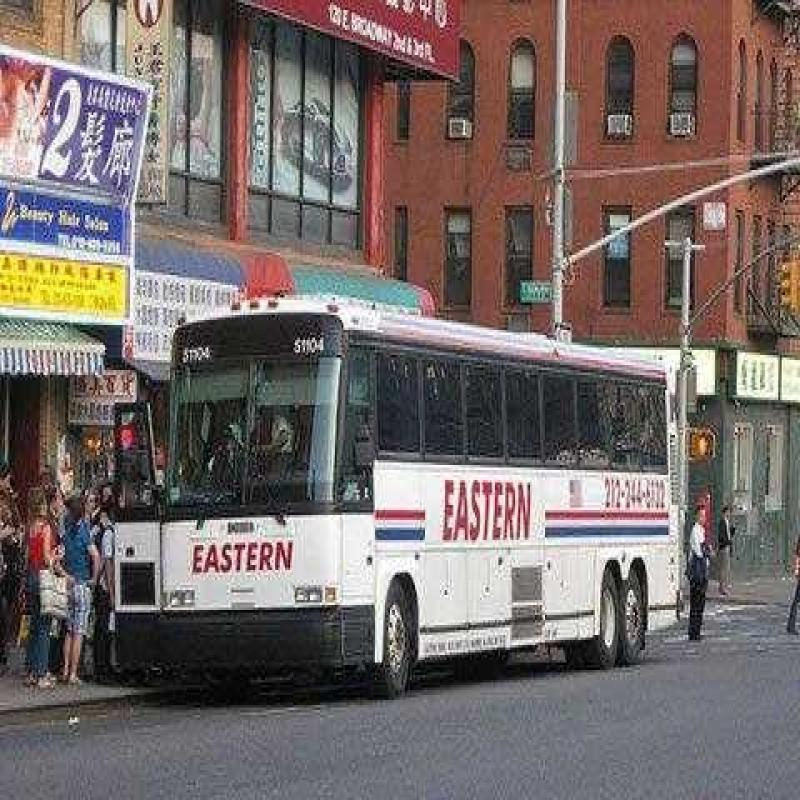bus: (108, 260, 704, 750)
